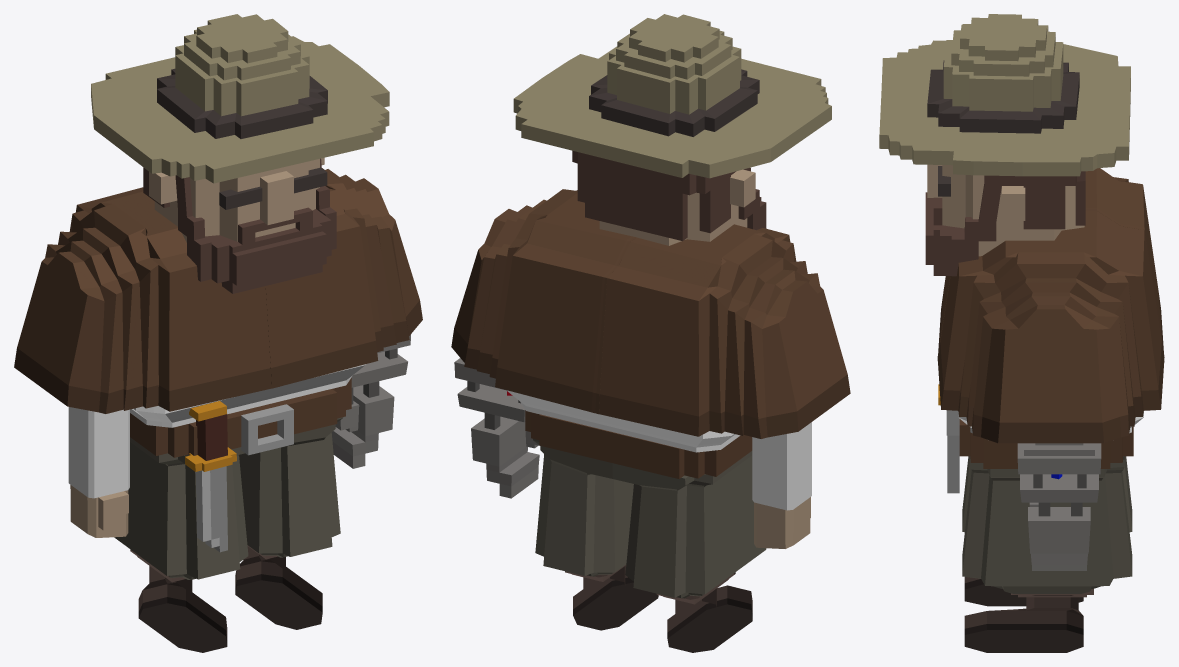
The model's file is player.glb.
The picture shows the model from 3 angles, left to right: view 1: azimuth 30°, elevation 25°; view 2: azimuth 150°, elevation 25°; view 3: azimuth 270°, elevation 25°; orthographic projection. The views are drawn at different scales.
Visible parts, largest first — view 1: poncho, Cube.001, Cube.016, leg right, leg left, torso, arm right, arm left, Cube.012, Cube.011, eyes; view 2: poncho, Cube.001, leg right, leg left, torso, Cube.016, arm right, arm left; view 3: poncho, Cube.001, leg left, Cube.016, arm left, torso, leg right, Cube.012.
Part boxes in pixels (bbox=[...]): poncho: bbox=[14, 168, 422, 413]; Cube.001: bbox=[91, 14, 389, 183]; Cube.016: bbox=[143, 157, 336, 293]; leg right: bbox=[114, 442, 248, 652]; leg left: bbox=[235, 432, 340, 629]; torso: bbox=[130, 364, 365, 466]; arm right: bbox=[68, 407, 129, 537]; arm left: bbox=[331, 334, 410, 468]; Cube.012: bbox=[185, 401, 236, 552]; Cube.011: bbox=[241, 404, 293, 455]; eyes: bbox=[219, 167, 327, 209]; poncho: bbox=[451, 189, 850, 438]; Cube.001: bbox=[513, 14, 831, 178]; leg right: bbox=[625, 455, 766, 652]; leg left: bbox=[535, 454, 658, 630]; torso: bbox=[507, 390, 752, 490]; Cube.016: bbox=[572, 150, 766, 245]; arm right: bbox=[752, 422, 811, 548]; arm left: bbox=[454, 358, 539, 498]; poncho: bbox=[937, 168, 1164, 443]; Cube.001: bbox=[879, 14, 1130, 176]; leg left: bbox=[962, 470, 1132, 652]; Cube.016: bbox=[925, 164, 1085, 276]; arm left: bbox=[1017, 443, 1101, 570]; torso: bbox=[958, 411, 1143, 480]; leg right: bbox=[962, 456, 1132, 606]; Cube.012: bbox=[938, 384, 959, 493].
Bounding box in the file's own units: 1.47 × 2.34 × 1.03.
